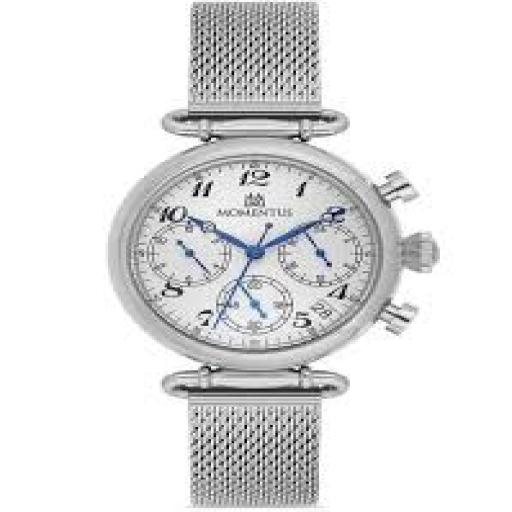KolSaati: (108, 0, 440, 512)
